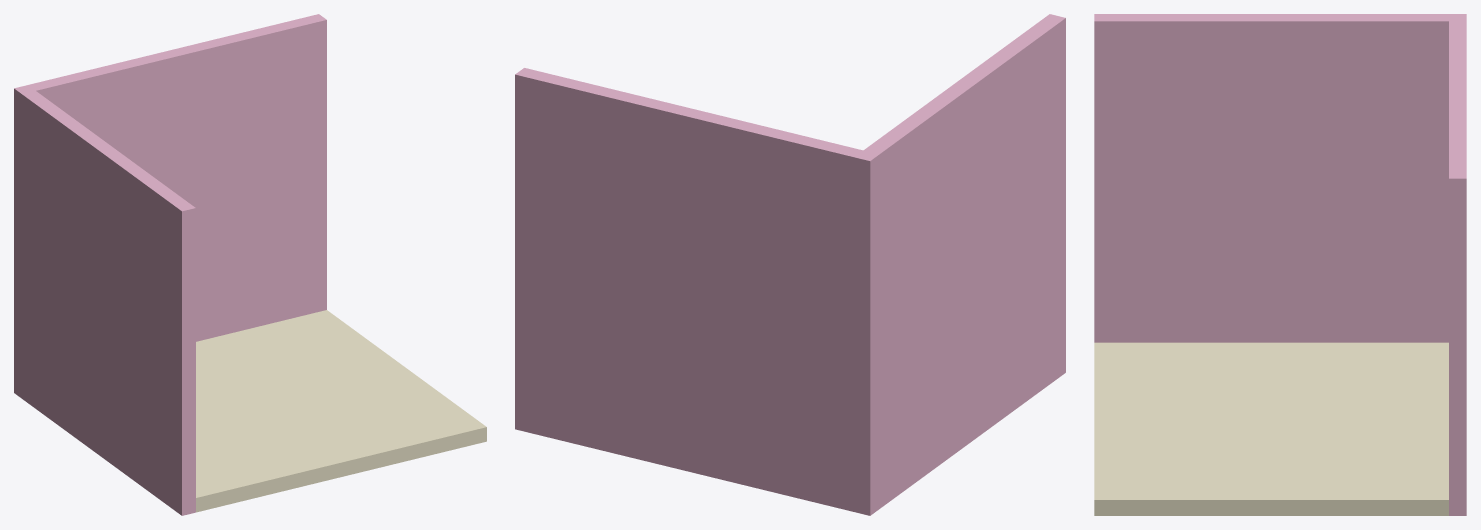
File: room_pink.glb
3 views of the same model, side by side, from view 1: azimuth 30°, elevation 25°; view 2: azimuth 150°, elevation 25°; view 3: azimuth 270°, elevation 25° (orthographic). The views are drawn at different scales.
Parts seen in each view (by area): view 1: wall; view 2: wall; view 3: wall.
Boxes of the visible parts, <box> form: wall: <box>14,14,486,515</box>; wall: <box>515,14,1065,515</box>; wall: <box>1094,14,1466,515</box>.
Size of the model in its own units: 0.44 by 0.42 by 0.42.
1 material, 1 textured.
